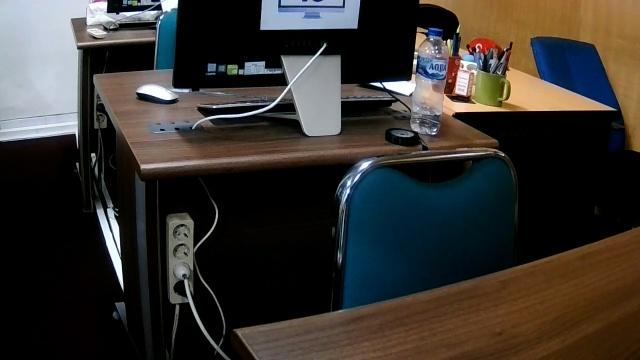AIO PC-Monitor-TV: (170, 0, 421, 136)
Meja: (91, 65, 499, 206)
